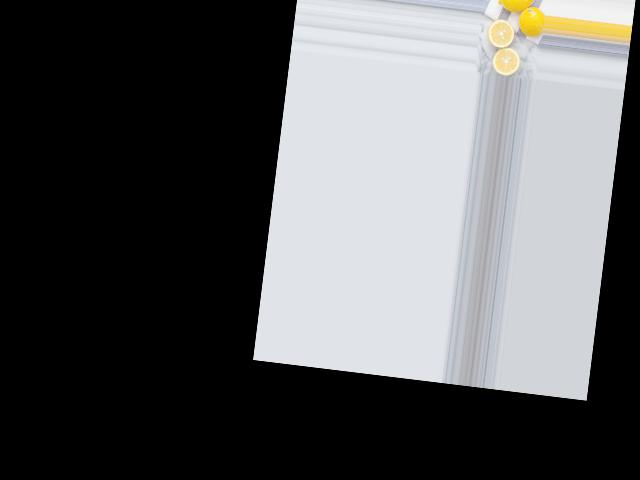lemon: (517, 5, 546, 35)
